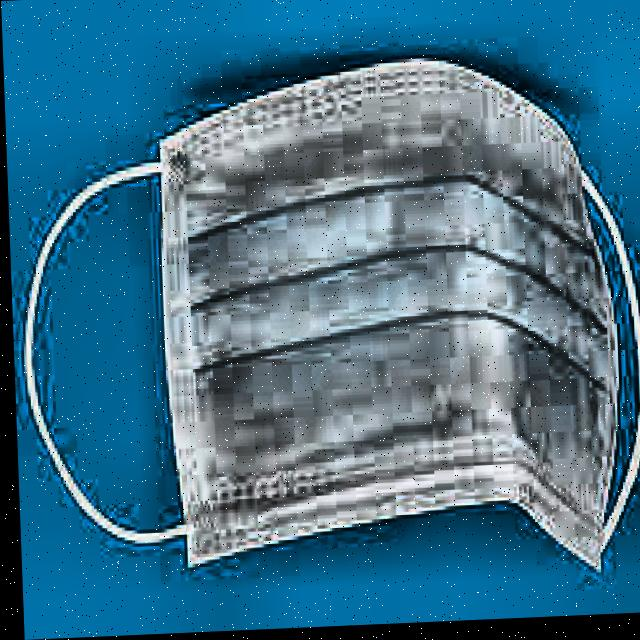trash: (147, 43, 626, 589)
